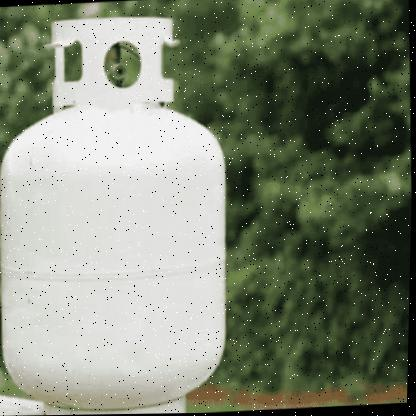gas-tank: (0, 1, 260, 415)
